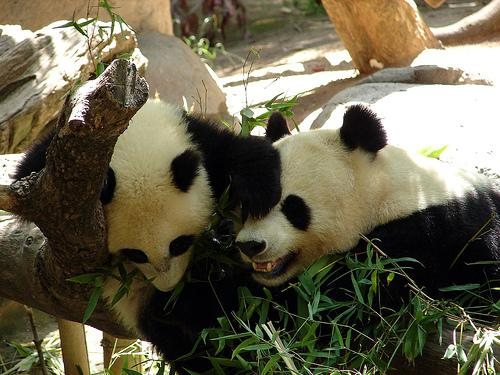panda: (0, 61, 499, 359)
